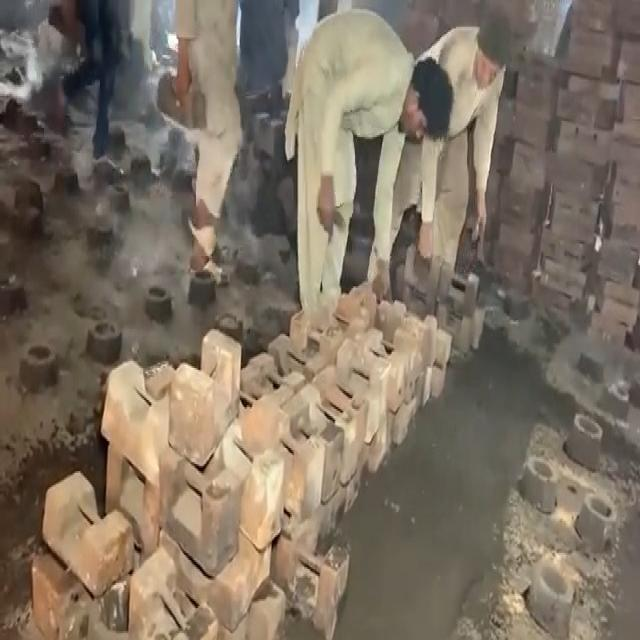dress: (289, 6, 416, 307), (177, 1, 242, 220)
